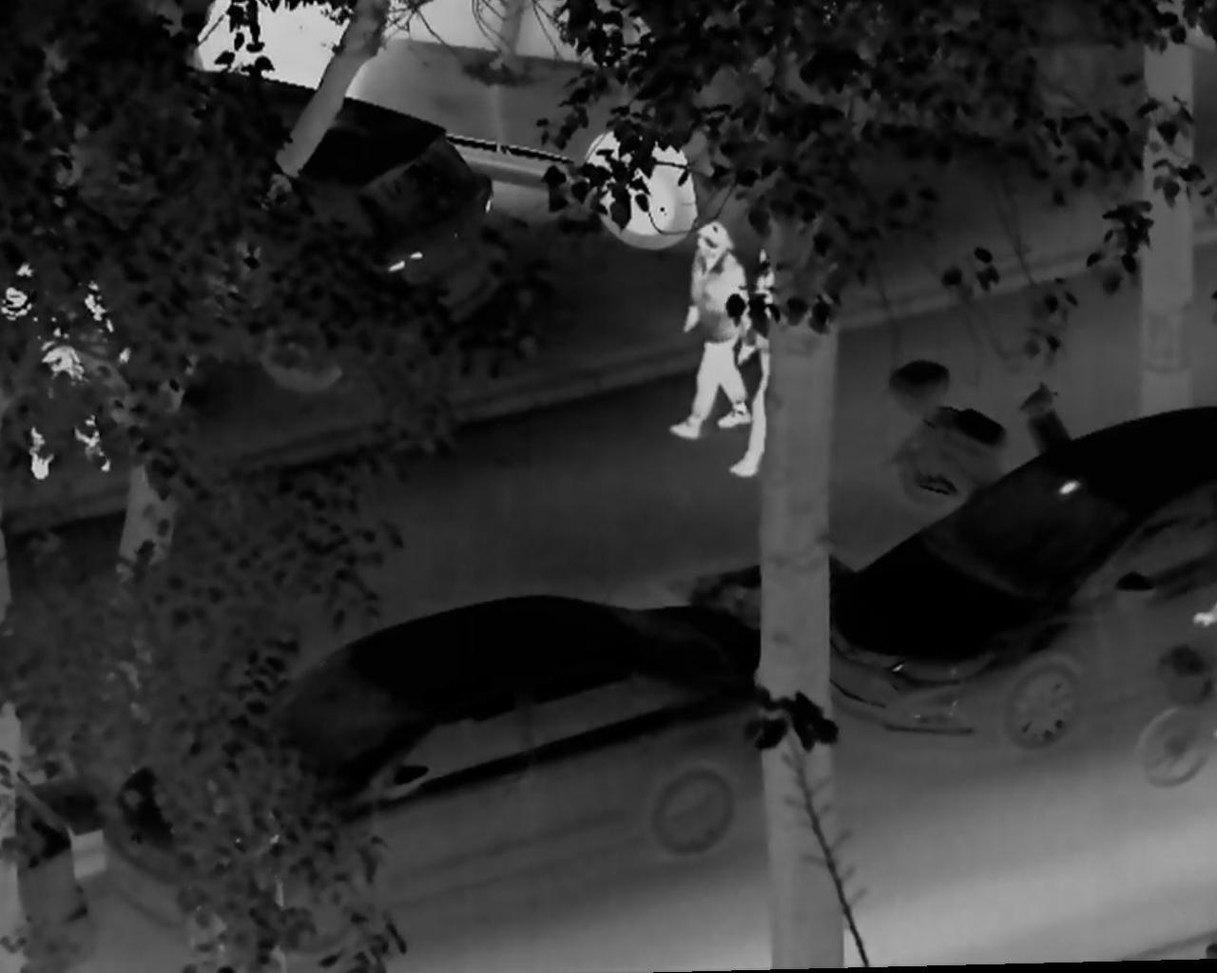person: (661, 217, 756, 442), (725, 240, 799, 483)
